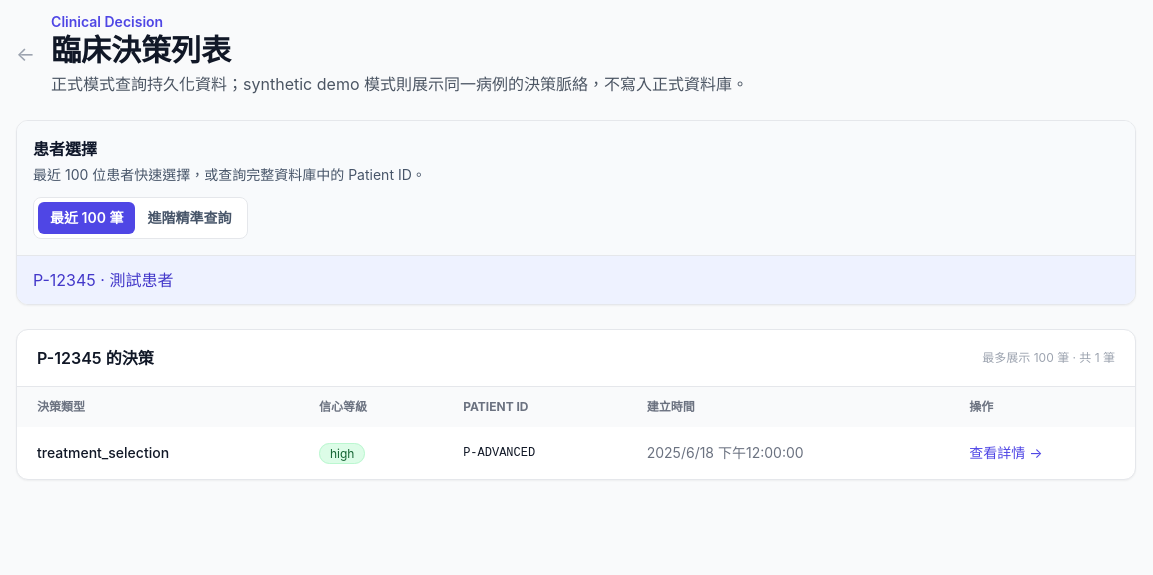
Test: ClinicalDecisionListPage › switches to advanced mode and queries a full Patient ID
The image size is (1153, 575).
Check: the button "P-12345 · 測試患者" is shown, box [17,256,1135,304]
Click the button "進階精準查詢" at [190, 218], box [136,202,244,234]
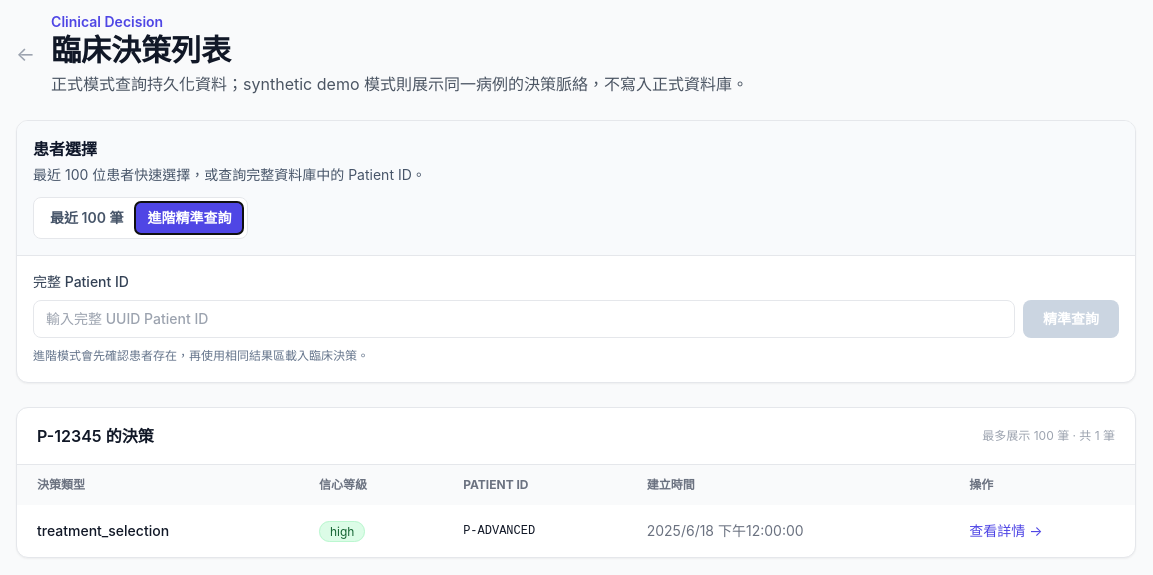
Type "P-ADVANCED" into the field with placeholder "輸入完整 UUID Patient ID" at [524, 319], box [33,300,1015,338]
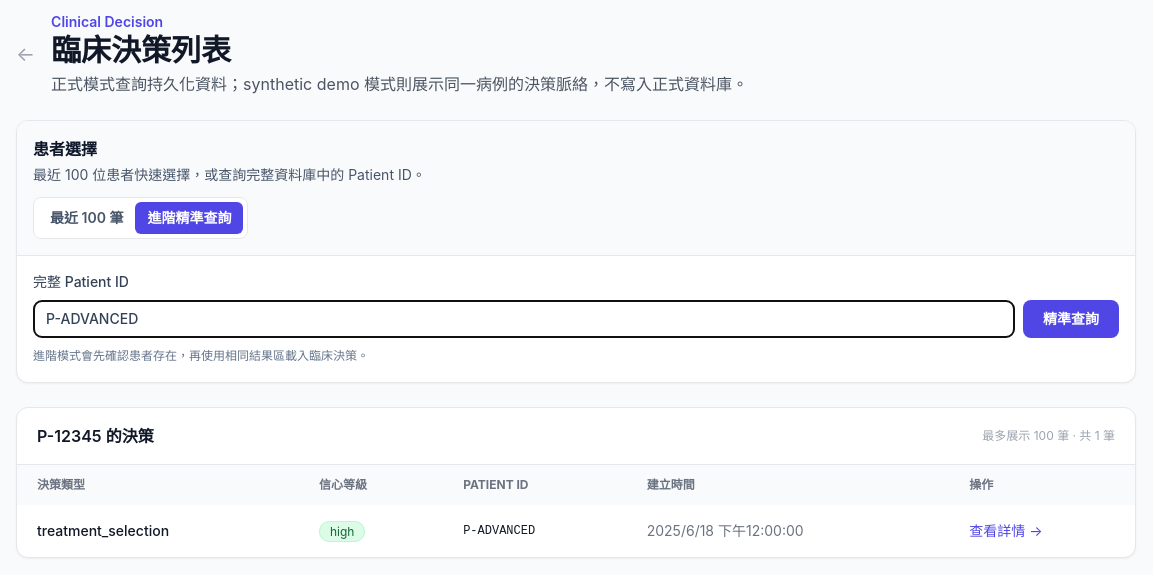
Click the button "精準查詢" at [1071, 319], box [1023,300,1119,338]
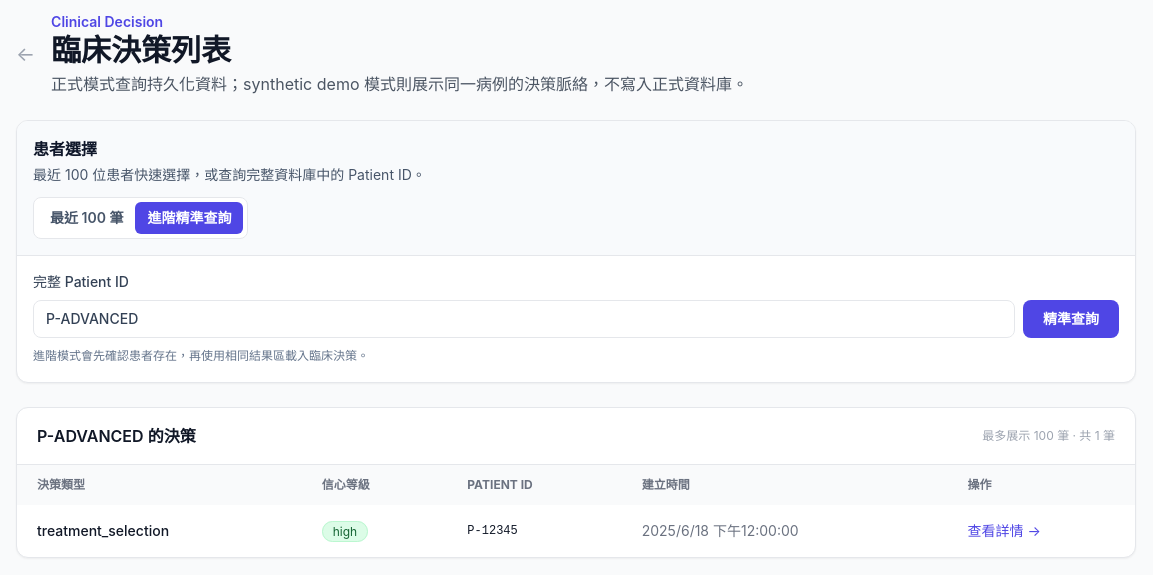
Check: the heading "P-ADVANCED 的決策" is shown, box [37,424,196,448]
